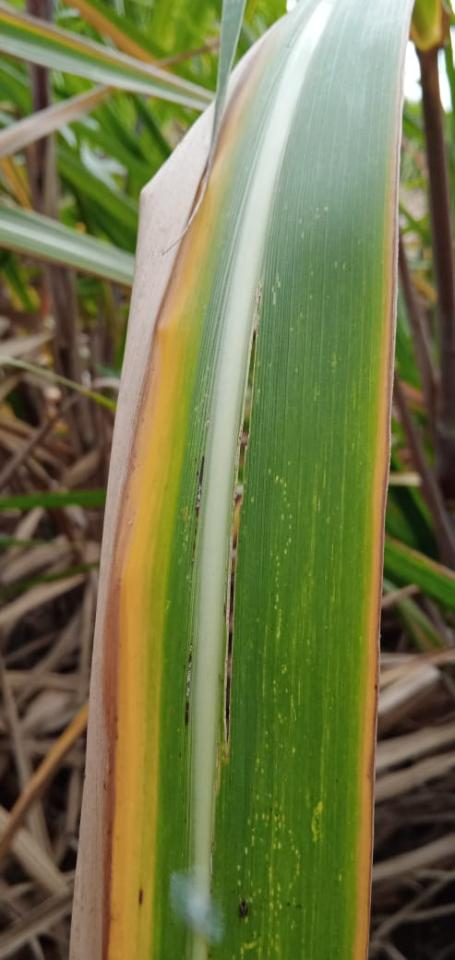Rust: (224, 327, 260, 746), (190, 454, 207, 568), (184, 651, 194, 726), (252, 283, 264, 316), (136, 887, 145, 906), (183, 664, 187, 670), (178, 752, 182, 758), (193, 457, 197, 463), (196, 471, 199, 476)
Yellow: (70, 27, 269, 959), (352, 70, 402, 959)
